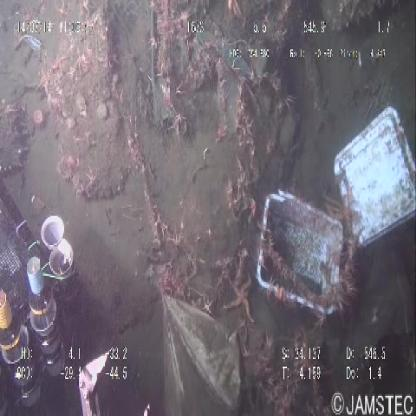Rov: (1, 140, 158, 416)
Rác: (249, 94, 416, 339)
